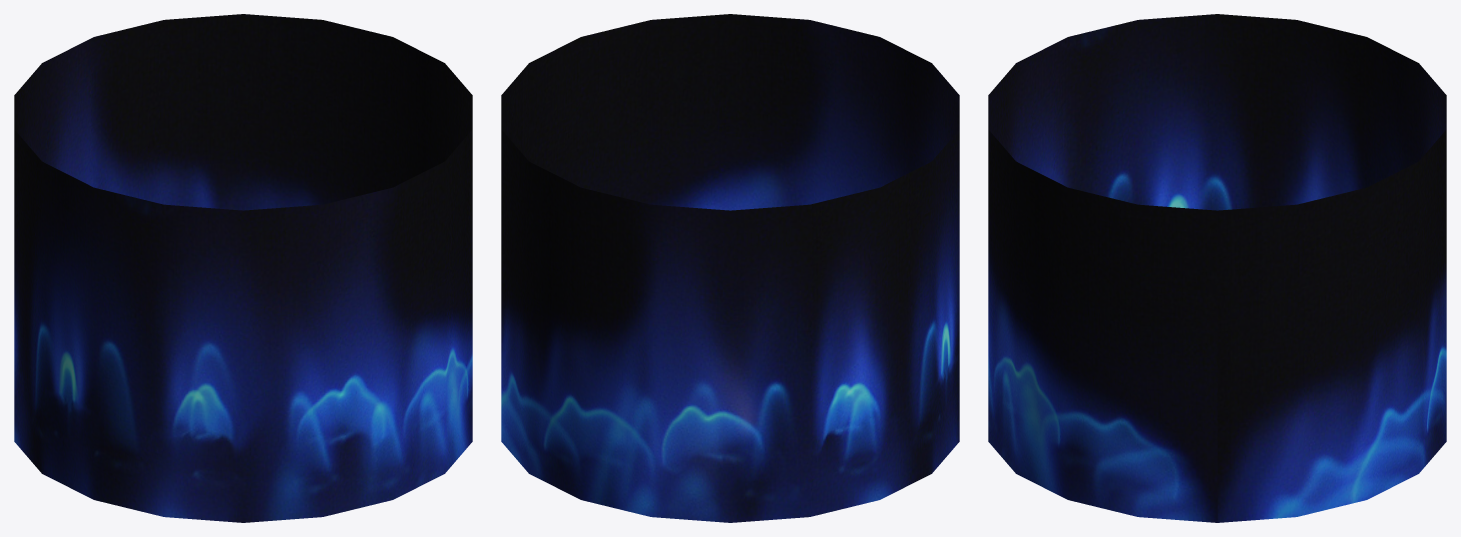
File: Stove Fire Mesh.fbx
The picture shows the model from 3 angles, left to right: view 1: azimuth 30°, elevation 25°; view 2: azimuth 150°, elevation 25°; view 3: azimuth 270°, elevation 25°; orthographic projection.
Visible parts, largest first — view 1: Stove Fire Mwsh; view 2: Stove Fire Mwsh; view 3: Stove Fire Mwsh.
Boxes of the visible parts, x1,y1,x2,y2 form: Stove Fire Mwsh: (14, 14, 472, 522); Stove Fire Mwsh: (501, 14, 959, 522); Stove Fire Mwsh: (988, 14, 1446, 522).
Bounding box in the file's own units: 992 × 735 × 977.
